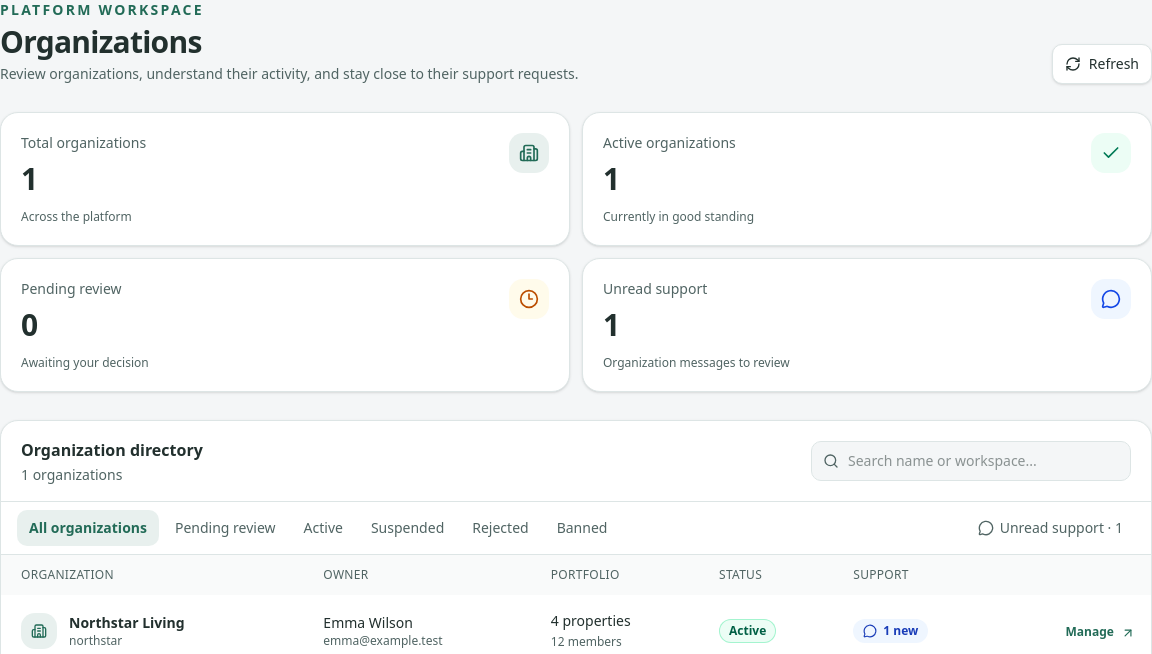
Test case: shows organization context and lets the platform owner reply to a support message
Click the button "Unread support · 1".
click(1050, 528)  # box [966,510,1135,546]
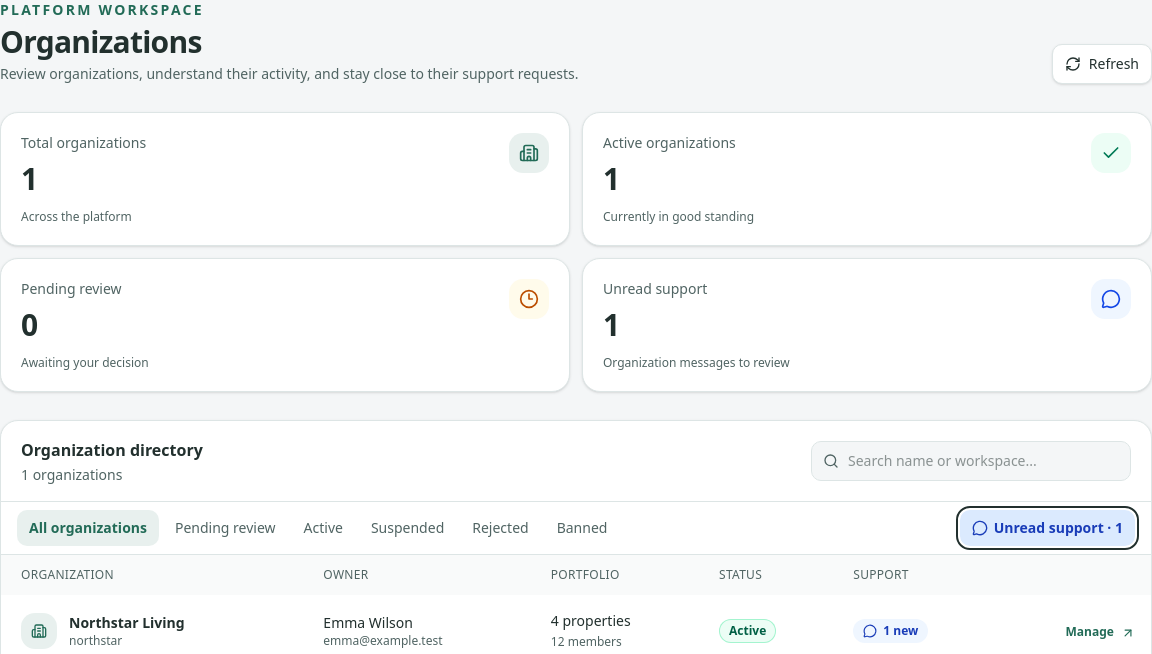
Click the button "Northstar Living northstar".
click(103, 631)  # box [21,613,185,649]
(page scrolled)
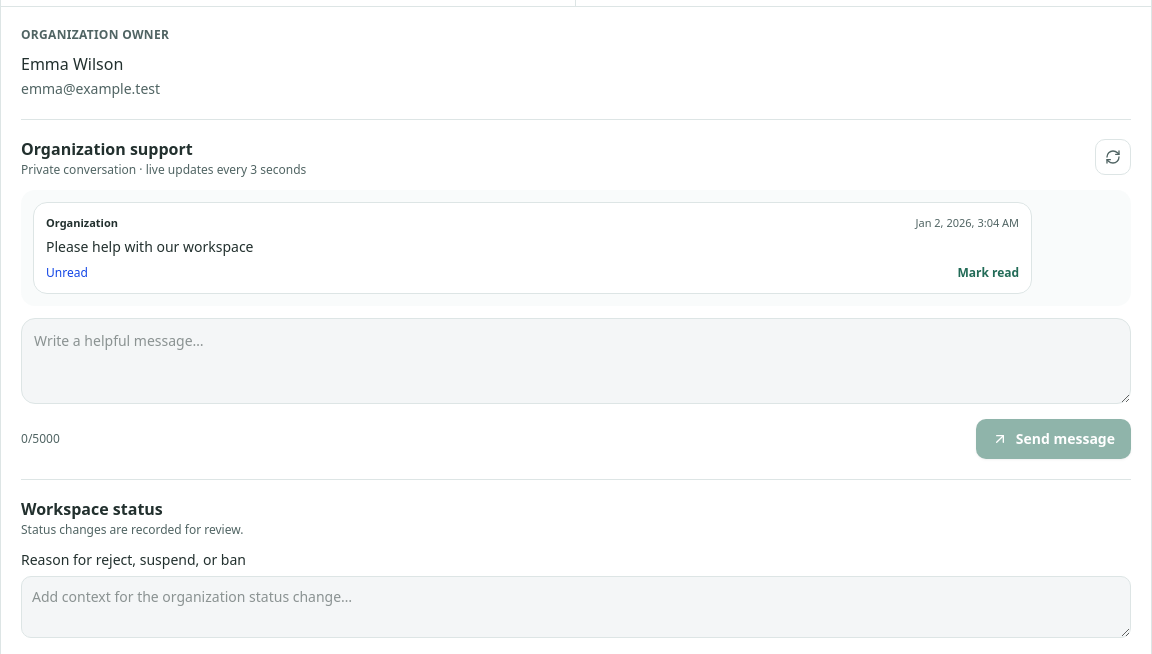
Result: the text "Emma Wilson" is shown at [21,53,123,75]
Result: the text "Please help with our workspace" is shown at [46,237,254,256]
Type "We are looking into this." into the text box named "Private message".
click(576, 361); type("We are looking into this.")  # box [21,318,1131,404]
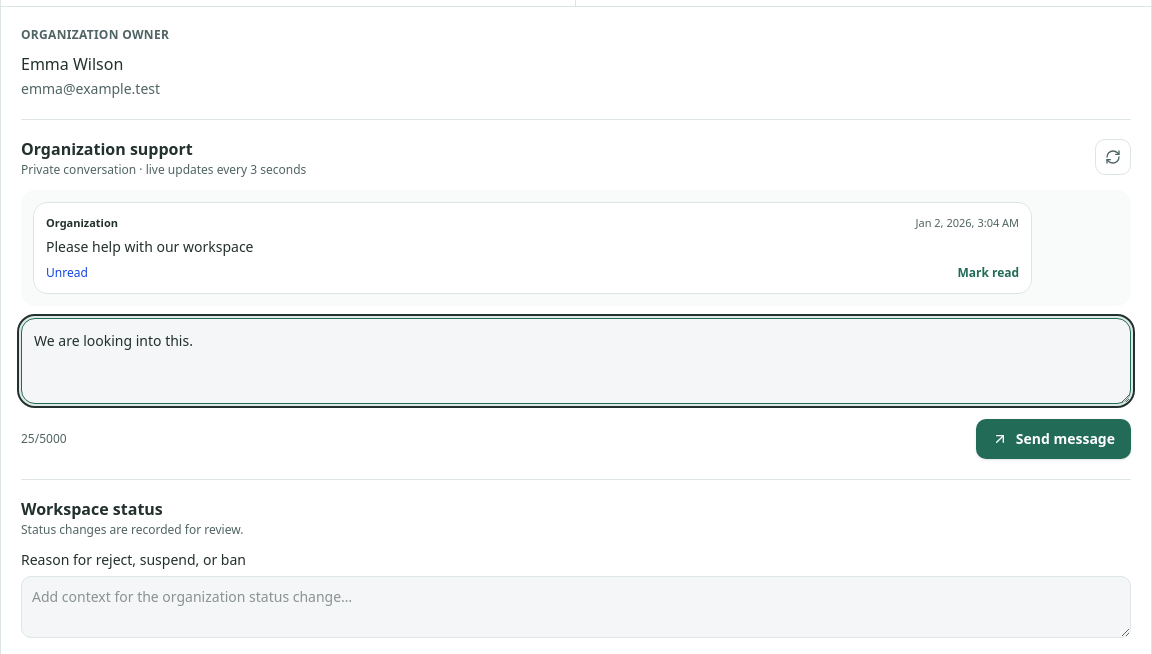
Click the button "Send message".
click(1053, 439)  # box [976,419,1131,459]
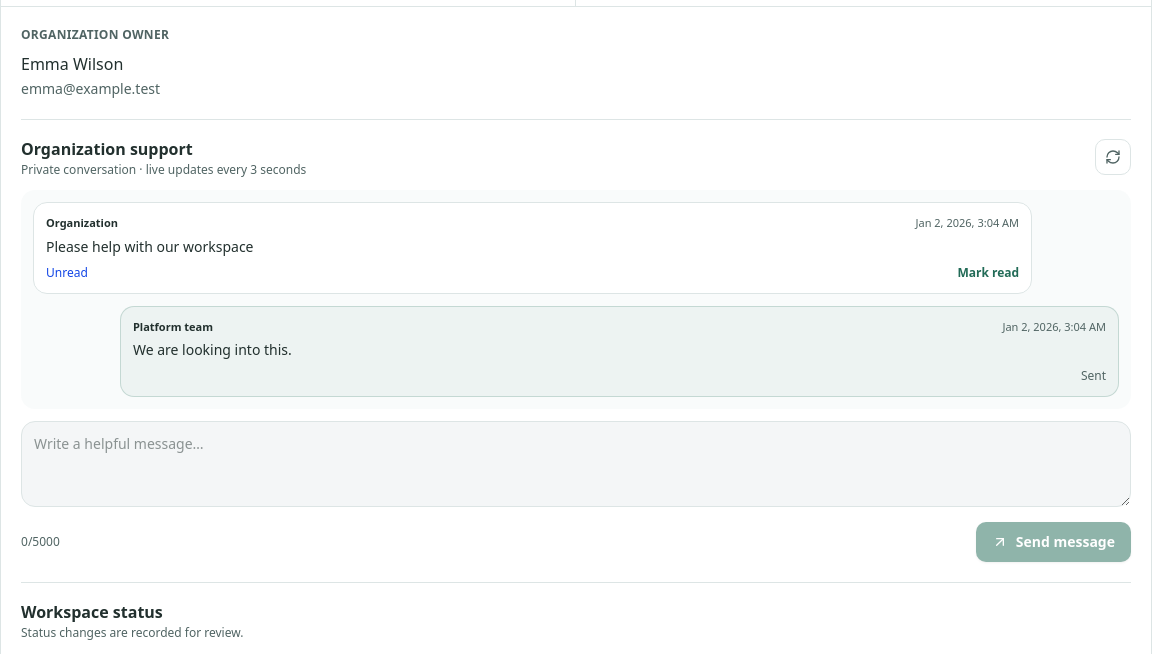
Result: the text "We are looking into this." is shown at [133,340,292,359]
